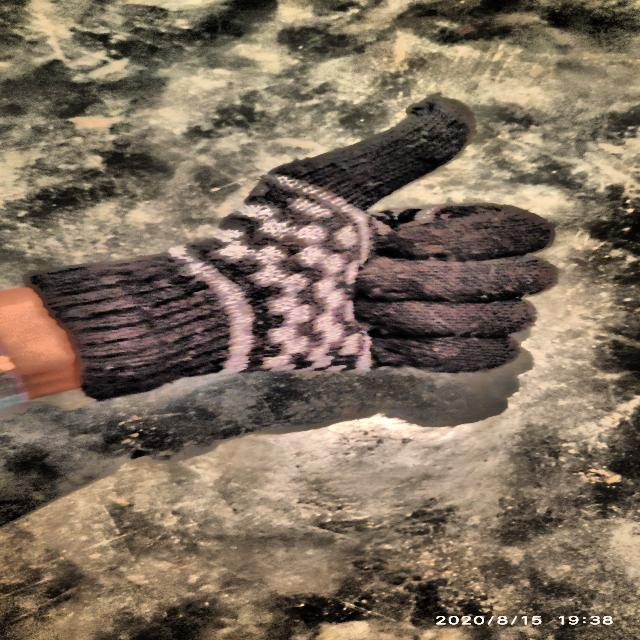gloved: (18, 95, 566, 406)
